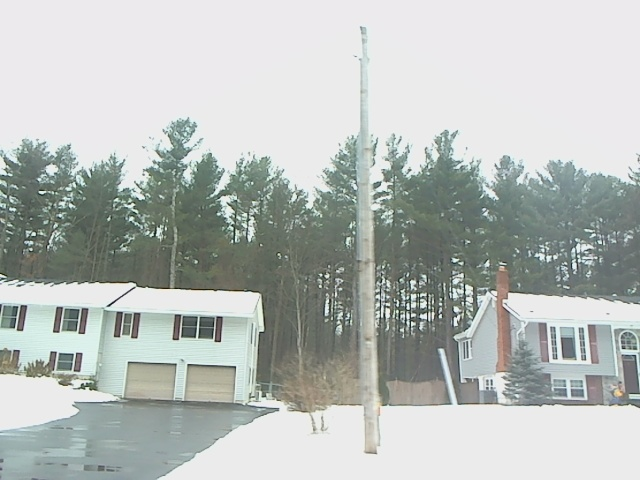Ploughed: (3, 393, 262, 476)
